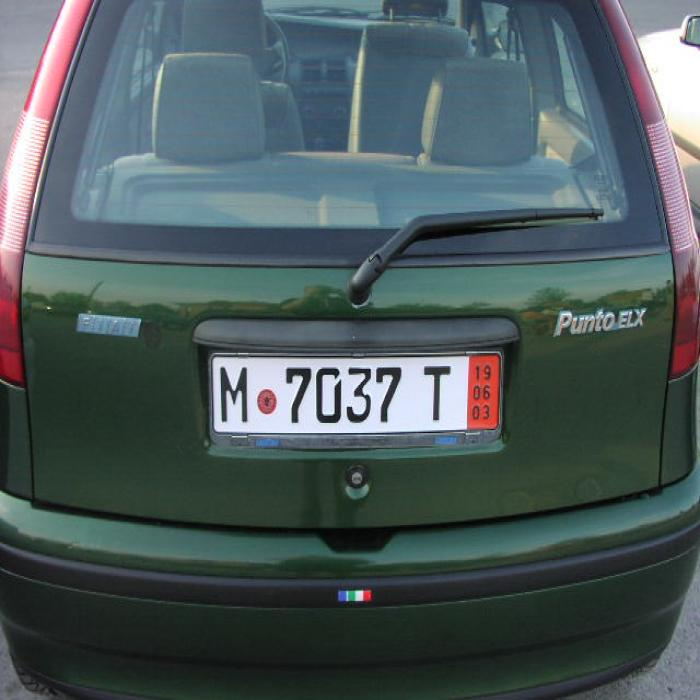number_plate: (213, 357, 494, 429)
